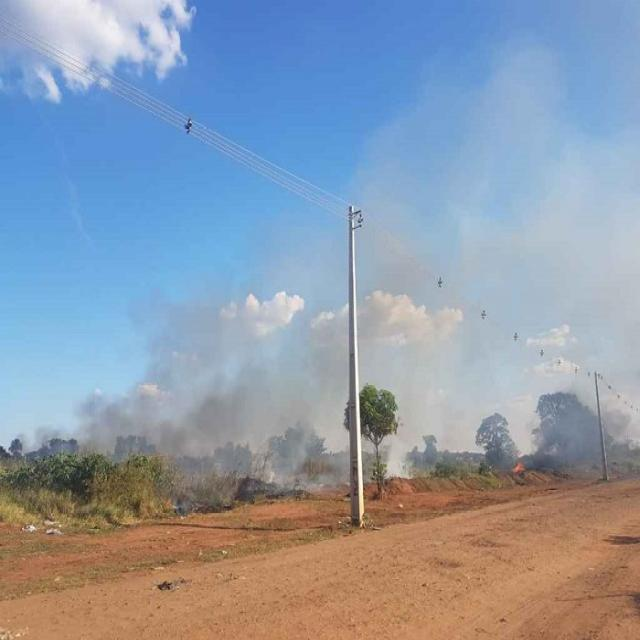Fire: (512, 462, 526, 475)
Smoke: (42, 39, 631, 495)
